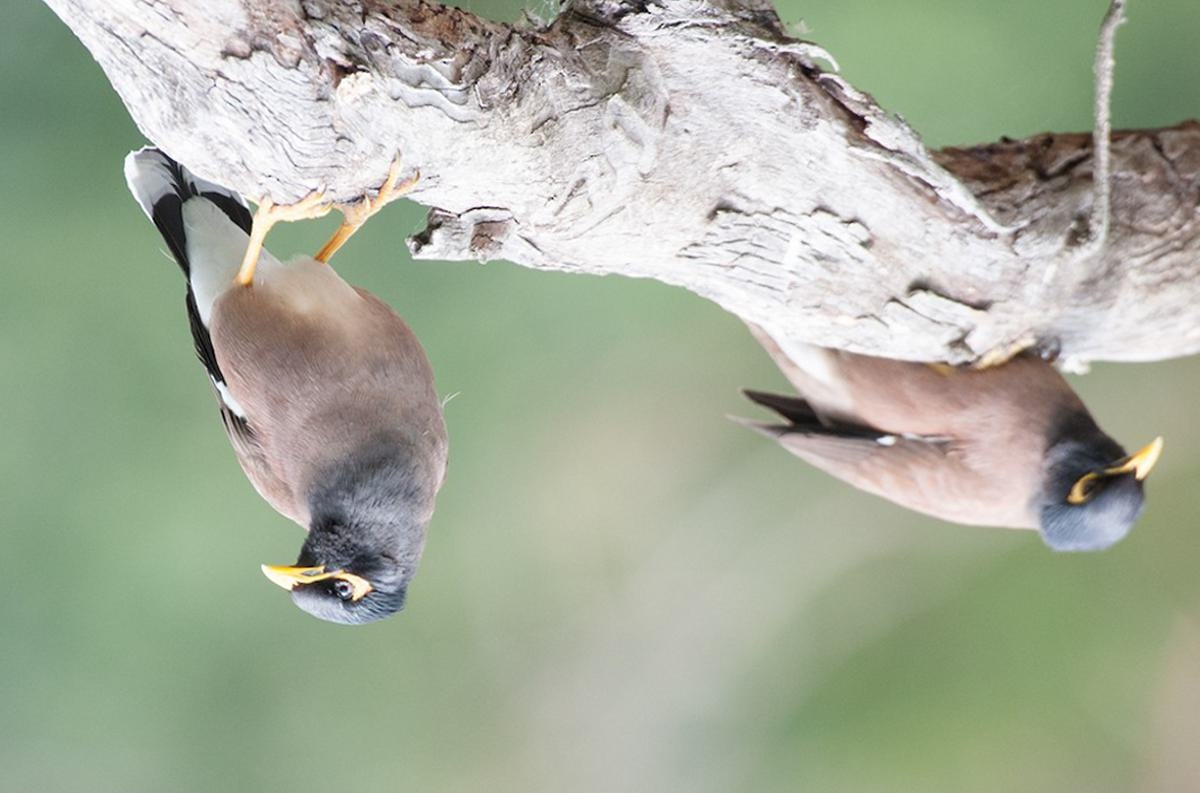myna: (127, 147, 479, 638), (725, 282, 1173, 558)
